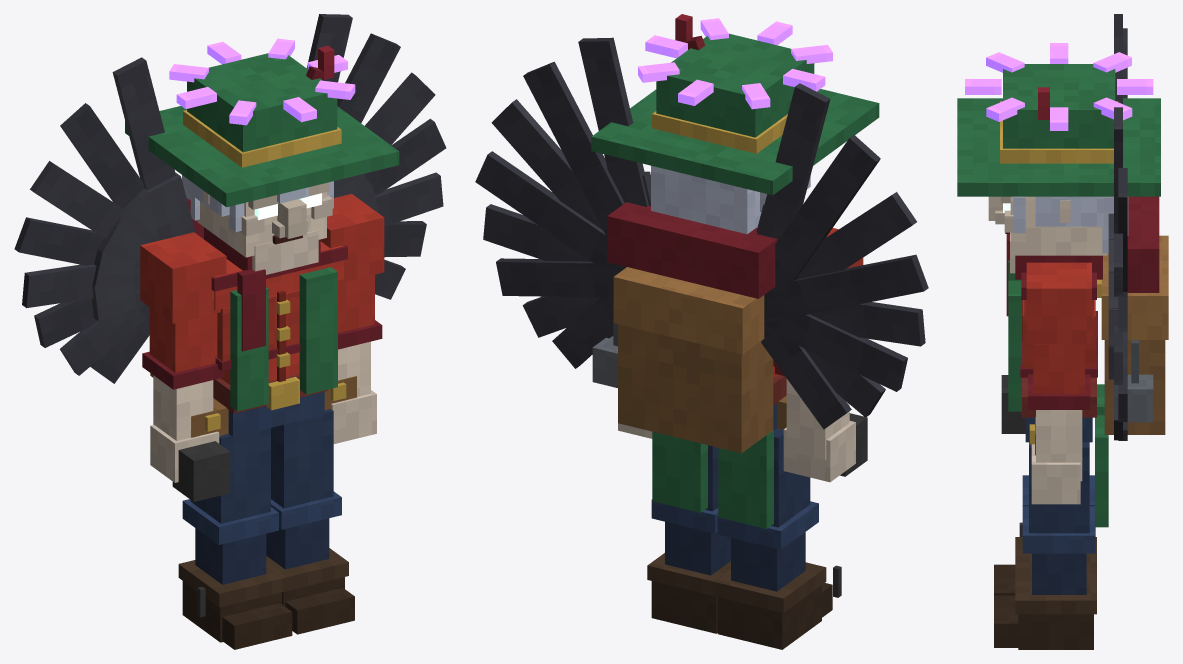
Rendered from angel_marchand_v2.glb.
3 renders of one model, left to right at view 1: azimuth 30°, elevation 25°; view 2: azimuth 150°, elevation 25°; view 3: azimuth 270°, elevation 25°, orthographic. The views are drawn at different scales.
Visible parts, largest first — view 1: Torso, Head, LegR, ArmR, LegL, ArmL, HandR; view 2: Torso, Head, LegR, LegL, ArmR, HandR; view 3: Head, Torso, ArmL, LegL, LegR, HandR.
Part boxes in pixels (left/top/right/bottom): Torso: left=14, top=14, right=446, bottom=437; Head: left=125, top=38, right=399, bottom=276; LegR: left=178, top=428, right=292, bottom=649; ArmR: left=140, top=232, right=226, bottom=482; LegL: left=266, top=409, right=354, bottom=634; ArmL: left=320, top=193, right=384, bottom=443; HandR: left=172, top=441, right=230, bottom=617; Torso: left=475, top=37, right=928, bottom=528; Head: left=591, top=14, right=879, bottom=234; LegR: left=713, top=428, right=832, bottom=649; LegL: left=647, top=445, right=730, bottom=633; ArmR: left=775, top=228, right=863, bottom=482; HandR: left=833, top=413, right=867, bottom=597; Head: left=957, top=43, right=1160, bottom=279; Torso: left=1006, top=14, right=1168, bottom=527; ArmL: left=1026, top=262, right=1091, bottom=504; LegL: left=994, top=442, right=1096, bottom=649; LegR: left=994, top=475, right=1096, bottom=595; HandR: left=1001, top=375, right=1025, bottom=536.
Bounding box in the file's own units: 1.63 × 2.03 × 0.695.
36 materials, 36 textured.
